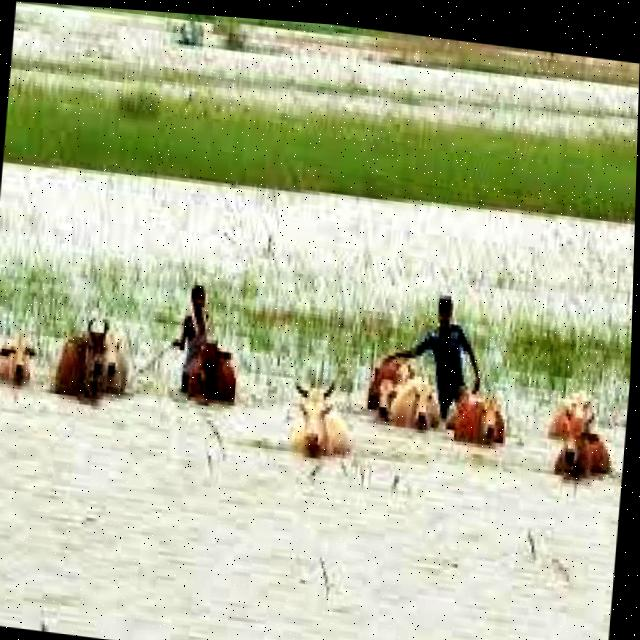civilian: (384, 277, 496, 426), (165, 280, 224, 394)
cow: (273, 372, 366, 466), (370, 360, 459, 449), (49, 306, 119, 411), (177, 333, 255, 415), (546, 408, 625, 488), (449, 388, 531, 461), (89, 322, 144, 406), (362, 348, 416, 421), (0, 318, 44, 401)
